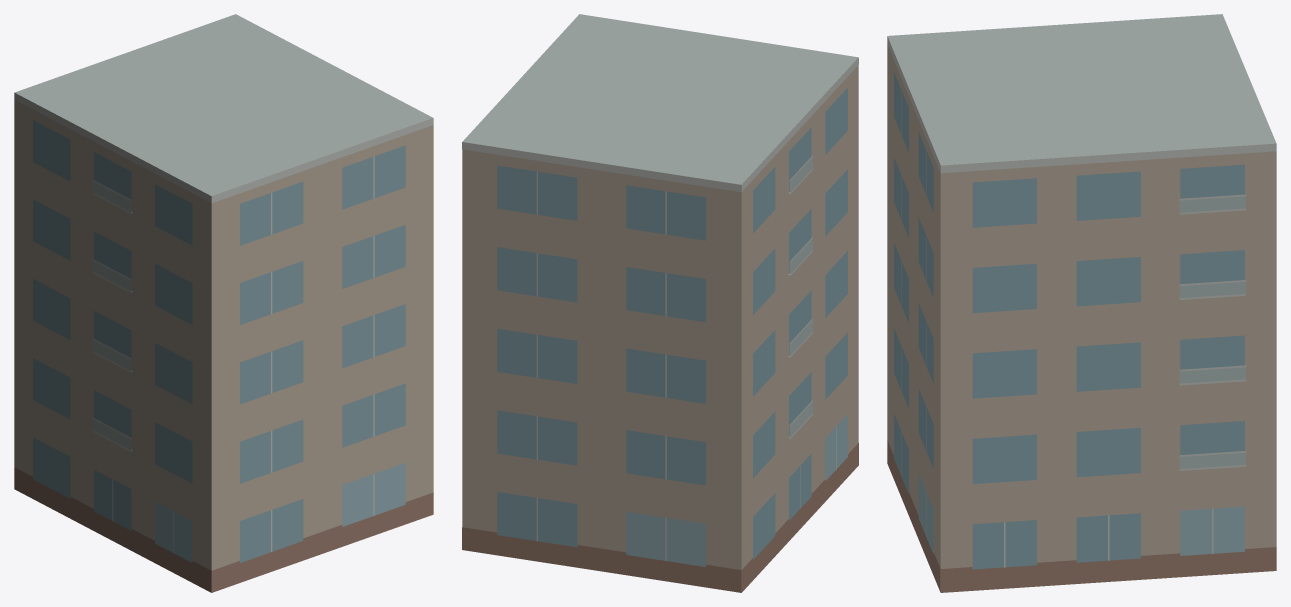
The model's file is survey-upis-32760032.glb.
3 renders of one model, left to right at view 1: azimuth 30°, elevation 25°; view 2: azimuth 150°, elevation 25°; view 3: azimuth 270°, elevation 25°, orthographic. The views are drawn at different scales.
Visible parts, largest first — view 1: survey-upis-32760032.tmp; view 2: survey-upis-32760032.tmp; view 3: survey-upis-32760032.tmp.
Part boxes in pixels (x1,y1,x2,y2): survey-upis-32760032.tmp: [14, 14, 433, 592]; survey-upis-32760032.tmp: [462, 14, 858, 592]; survey-upis-32760032.tmp: [887, 14, 1276, 592].
Size of the model in its own units: 10.36 by 13.6 by 11.24.
